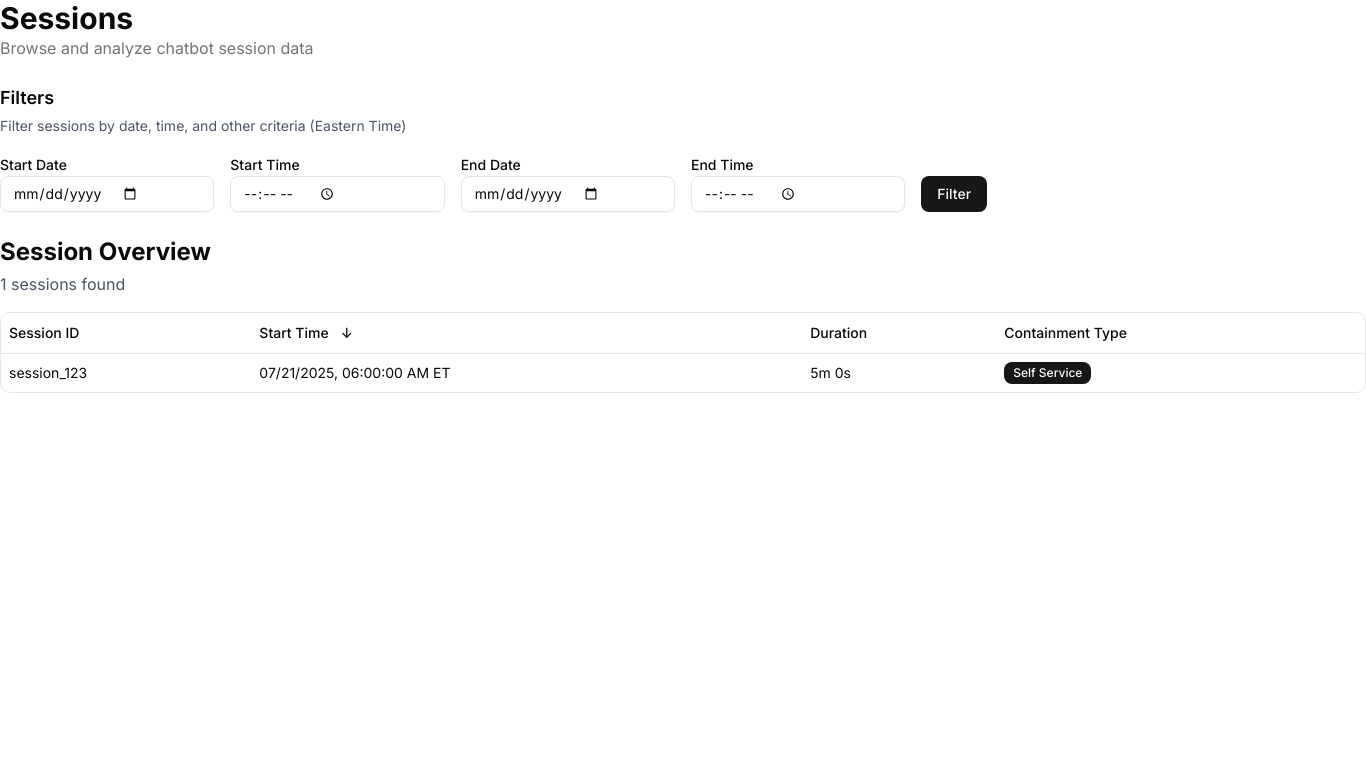
Test: Sessions Page › closes session details dialog when close button is clicked
The width and height of the screenshot is (1366, 768).
Expected: the heading "Sessions" is shown, [0,0,133,36]
# Open dialog
Click the row "session_123 07/21/2025, 06:00:00 AM ET 5m 0s Self Service": (48, 372) [1,353,1365,392]
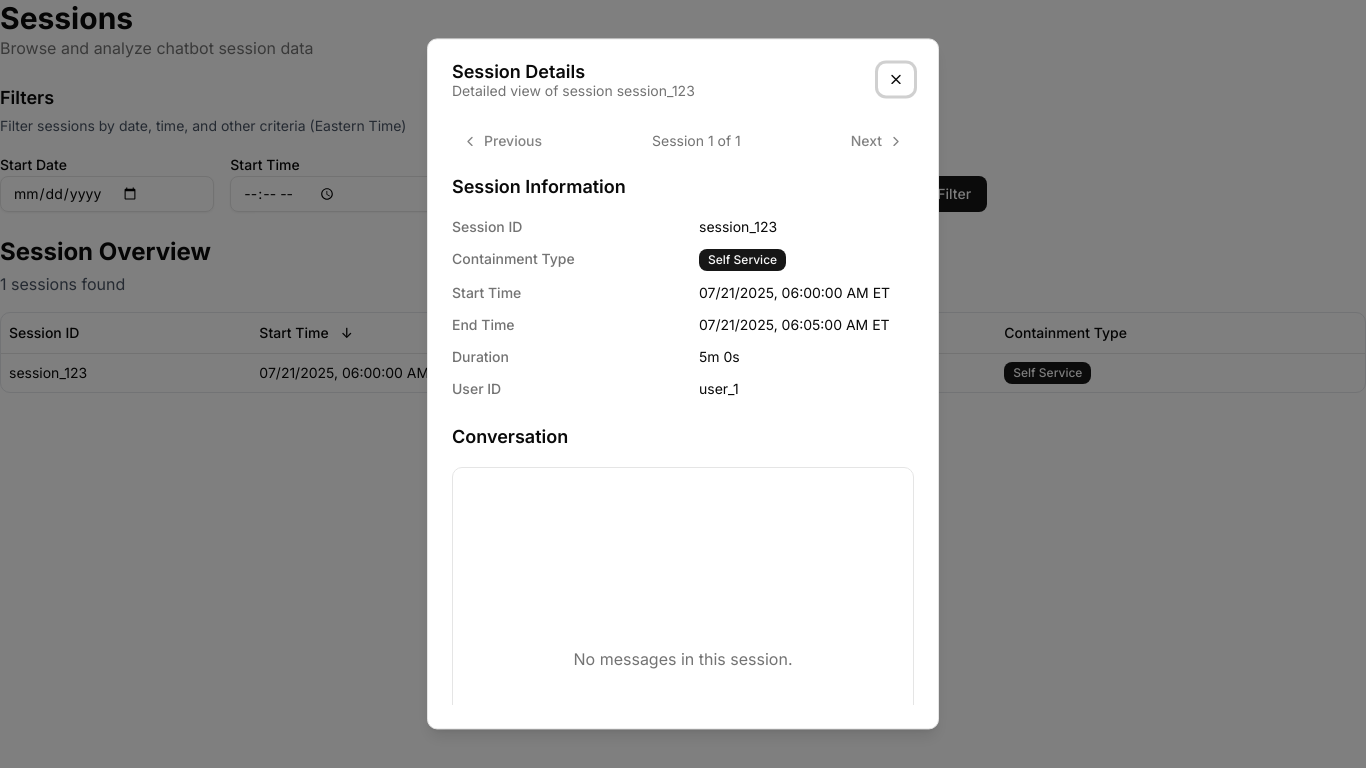
Now the heading "Session Details" is shown, box [452,61,585,82]
# Close dialog
Click the button named "close": (896, 79) [878,63,914,95]
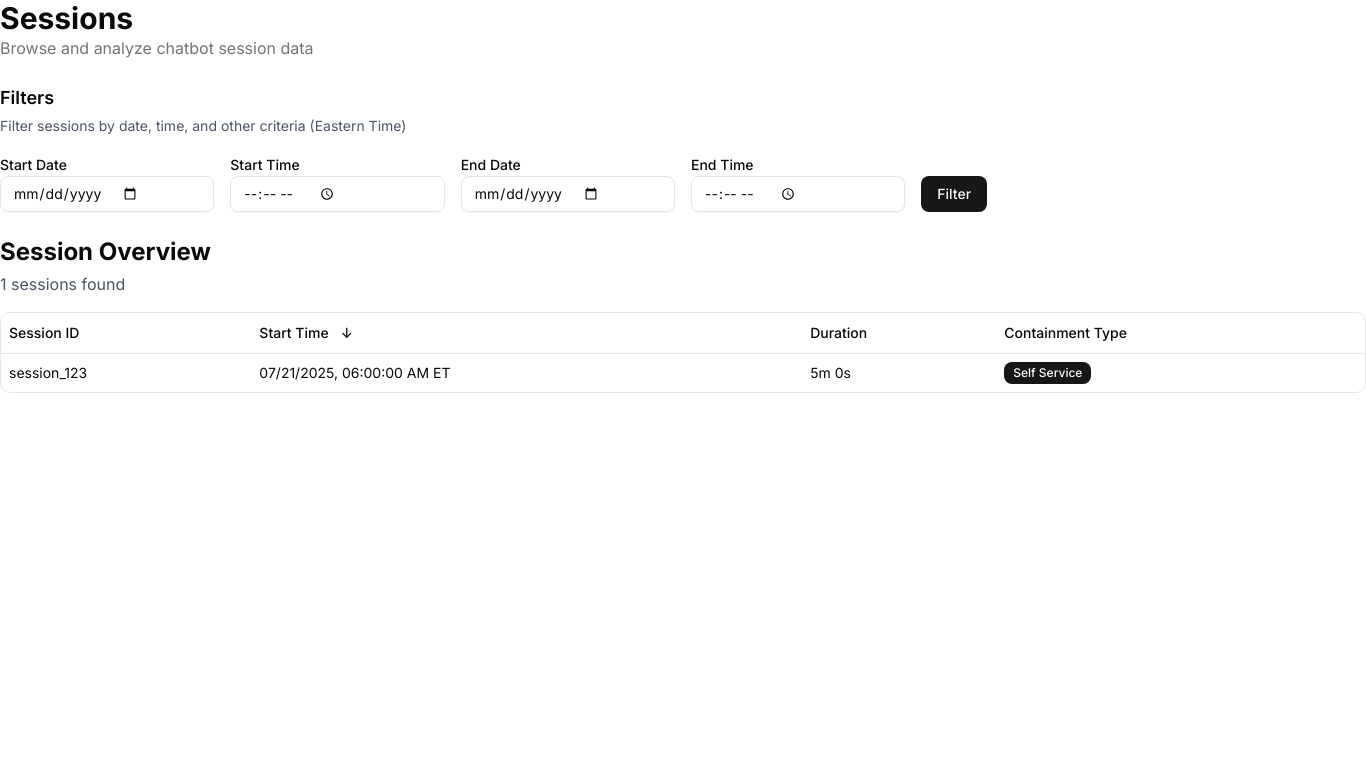
Now the heading "Session Details" is gone
